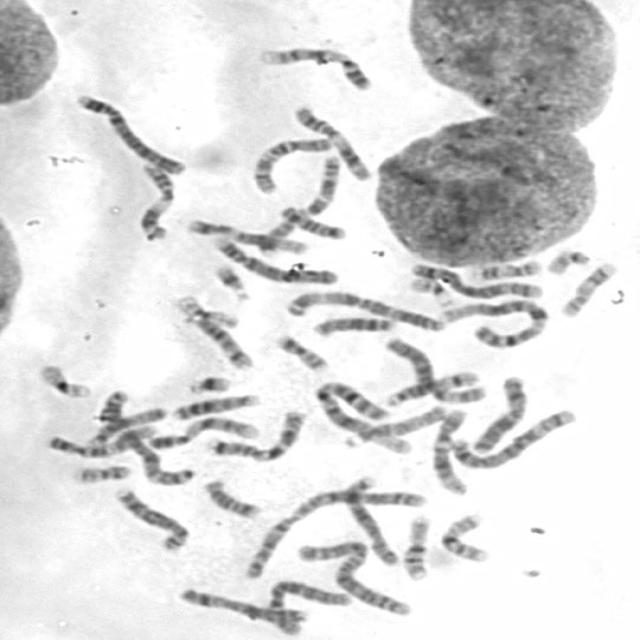A1: (311, 377, 416, 456), (434, 294, 552, 349)
A2: (238, 482, 432, 582), (292, 536, 414, 618)
A3: (95, 386, 195, 488), (280, 286, 449, 333)
B4: (68, 88, 190, 176), (206, 231, 340, 286)
B5: (444, 404, 581, 471), (404, 258, 544, 300)
C10: (248, 133, 334, 195), (40, 419, 160, 459)
C11: (287, 100, 374, 182), (132, 158, 176, 242)
C12: (180, 214, 311, 256), (426, 404, 472, 496)
C6: (378, 332, 488, 406), (261, 575, 352, 636)
C7: (249, 149, 344, 256), (204, 404, 309, 462)
C8: (339, 472, 403, 567), (107, 482, 192, 553)
C9: (254, 42, 377, 92), (142, 413, 263, 451)
D13: (167, 389, 261, 421), (307, 311, 398, 338)
D14: (380, 367, 482, 408), (187, 313, 255, 370)
D15: (339, 401, 448, 448), (80, 403, 168, 448)
E16: (435, 508, 493, 564), (397, 510, 434, 582)
E17: (556, 257, 620, 319), (462, 254, 545, 282)
E18: (275, 201, 350, 241), (198, 475, 264, 520)
F19: (169, 291, 242, 330), (32, 360, 94, 399)
F20: (270, 330, 331, 373), (67, 459, 134, 484)
G21: (208, 258, 254, 302), (182, 371, 234, 395)
G22: (404, 272, 459, 307), (540, 245, 592, 276)
X: (173, 583, 311, 629), (466, 370, 528, 455)
